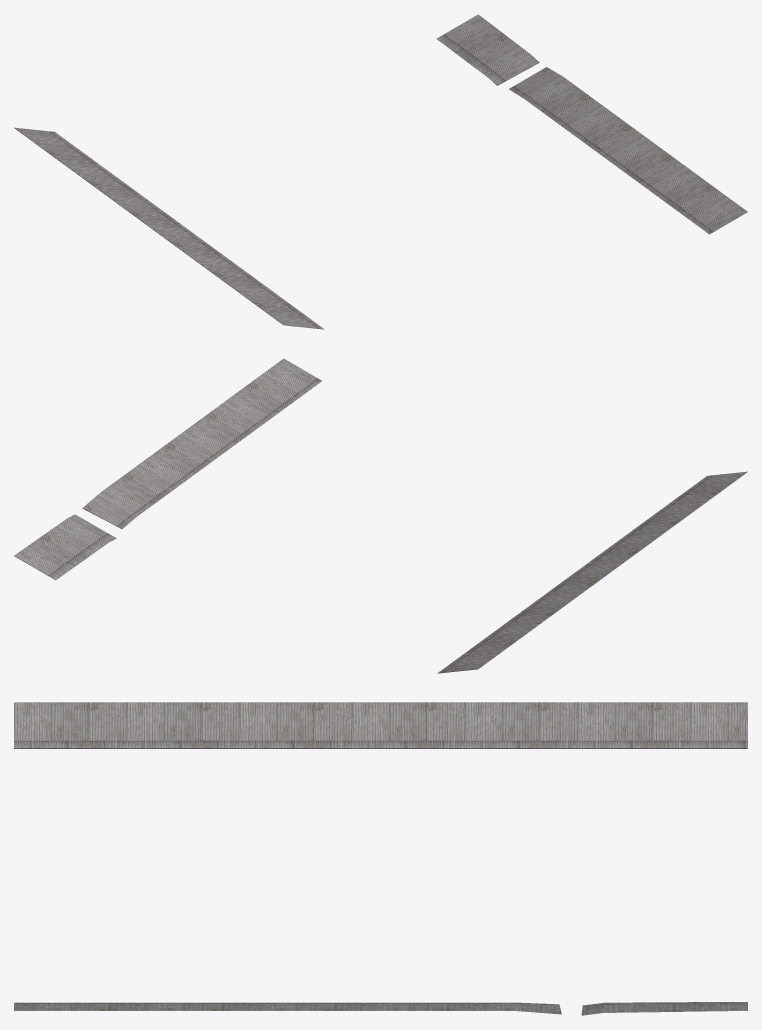
Rendered from SM_LDFest_15_Toles_00.fbx.
3 renders of one model, top to bottom at view 1: azimuth 30°, elevation 25°; view 2: azimuth 150°, elevation 25°; view 3: azimuth 270°, elevation 25°, orthographic. The views are drawn at different scales.
Parts seen in each view (by area): view 1: SM_LDFest_15_Toles_00; view 2: SM_LDFest_15_Toles_00; view 3: SM_LDFest_15_Toles_00.
Part boxes in pixels (left/top/right/bottom): SM_LDFest_15_Toles_00: left=14, top=14, right=747, bottom=329; SM_LDFest_15_Toles_00: left=14, top=358, right=747, bottom=673; SM_LDFest_15_Toles_00: left=14, top=702, right=747, bottom=1015.
Bounding box in the file's own units: 5073 × 178 × 5098.
